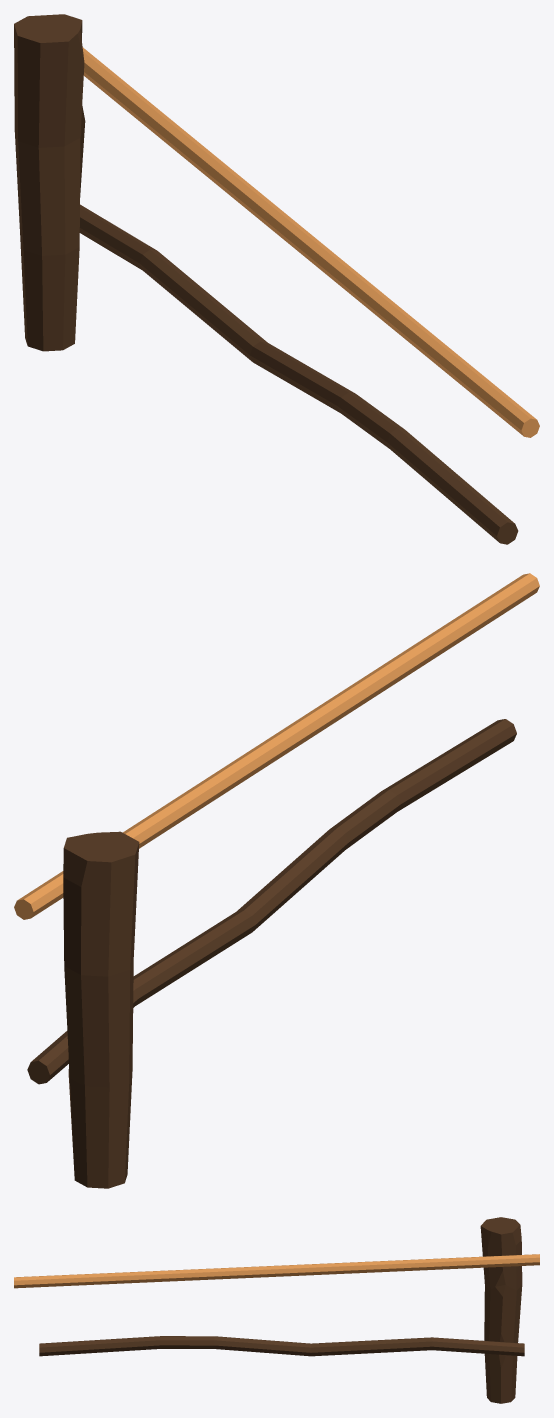
Rendered from Fence_5.fbx.
The picture shows the model from 3 angles, top to bottom: view 1: azimuth 30°, elevation 25°; view 2: azimuth 150°, elevation 25°; view 3: azimuth 270°, elevation 25°; orthographic projection. The views are drawn at different scales.
Visible parts, largest first — view 1: fence_4; view 2: fence_4; view 3: fence_4.
Boxes of the visible parts, box(x1,y1,x2,y2) form: fence_4: box(14, 14, 539, 544); fence_4: box(14, 573, 539, 1188); fence_4: box(14, 1217, 539, 1403).
Size of the model in its own units: 49.82 by 185 by 511.
